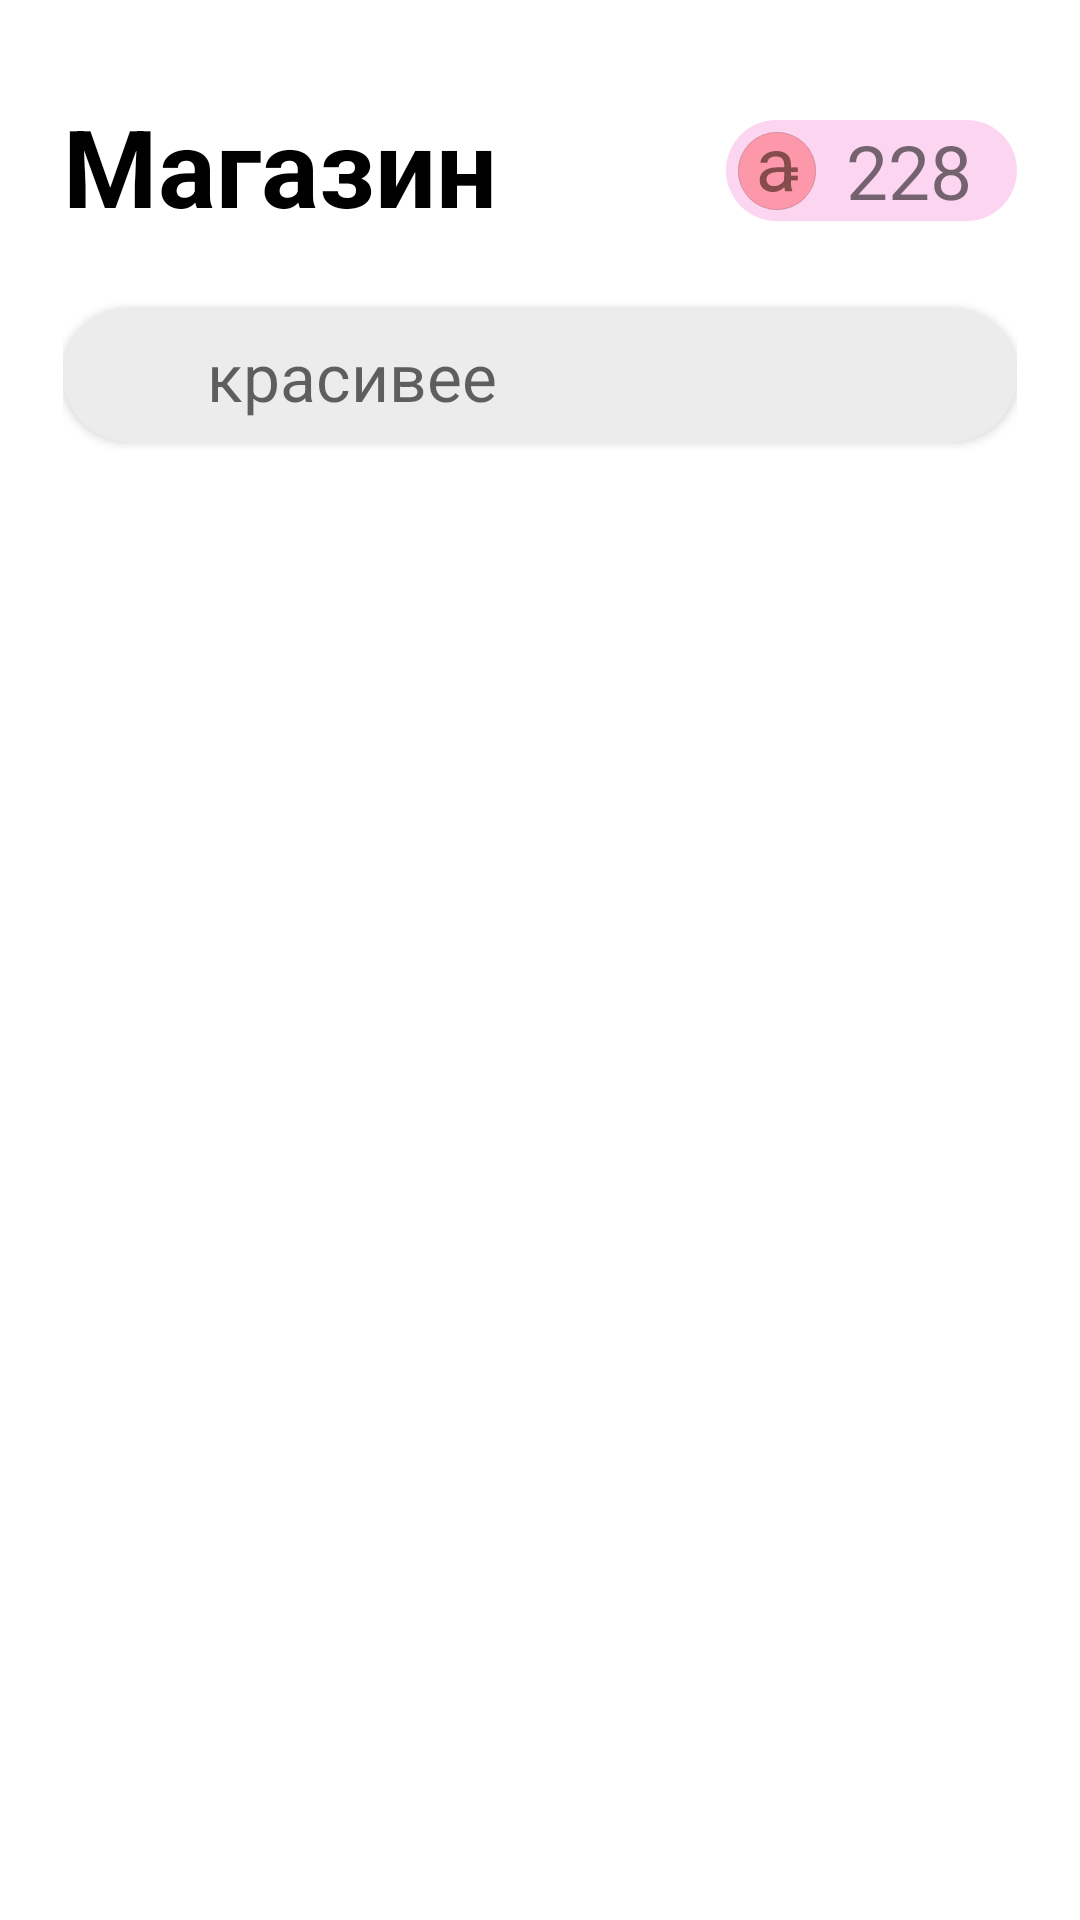

Screen size 1080*1920. Icon name, then its center in pixels as (x,y):
currency: (771,165)
